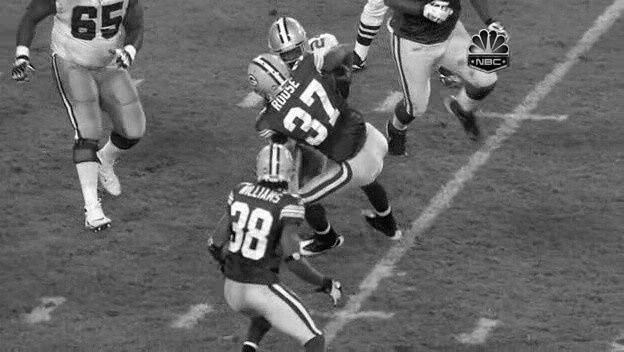person: (272, 29, 306, 73), (271, 29, 305, 73), (273, 29, 307, 73), (272, 28, 306, 72), (272, 30, 306, 74)
target_negative: (31, 172, 158, 336), (397, 33, 489, 225), (457, 343, 620, 352), (496, 126, 517, 156), (568, 117, 571, 227), (481, 227, 494, 252)
